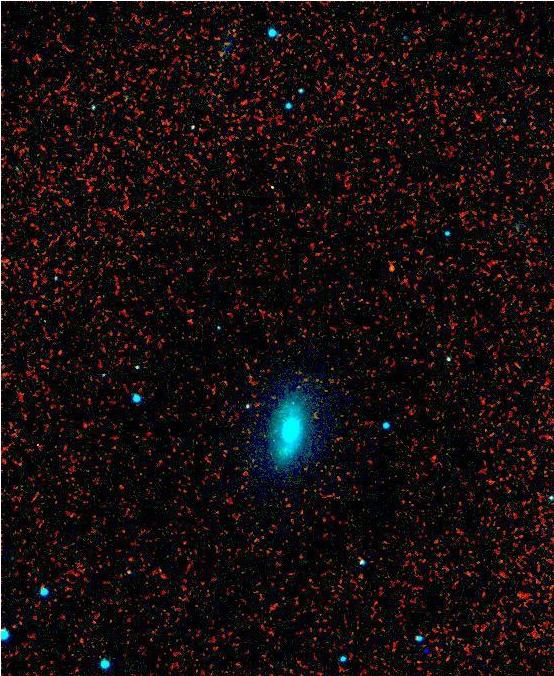star: (377, 252, 407, 282)
